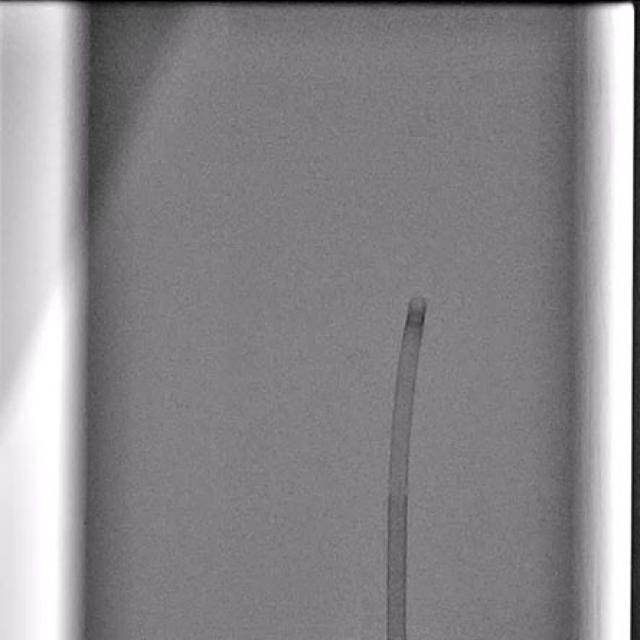bend: (388, 480, 410, 496)
entry: (388, 634, 406, 640)
marker: (406, 311, 426, 327)
tip: (410, 296, 427, 304)
